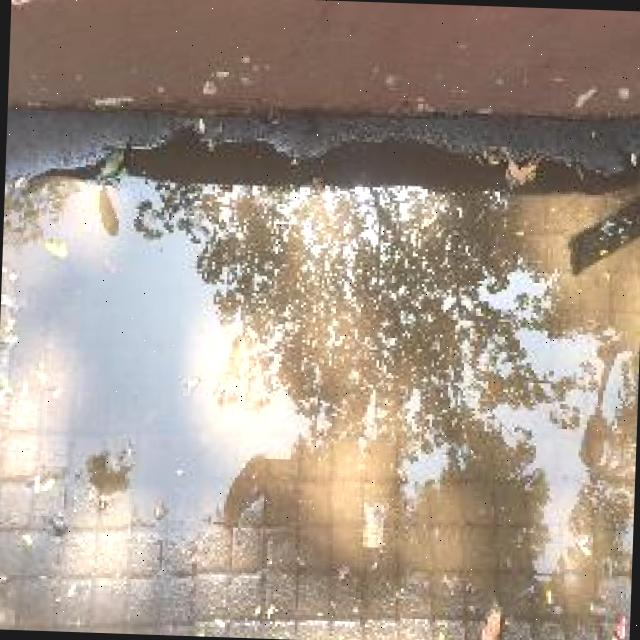stagnation: (0, 134, 551, 526)
